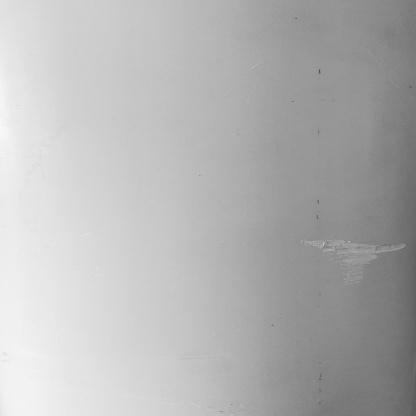sunshang: (307, 230, 406, 291)
